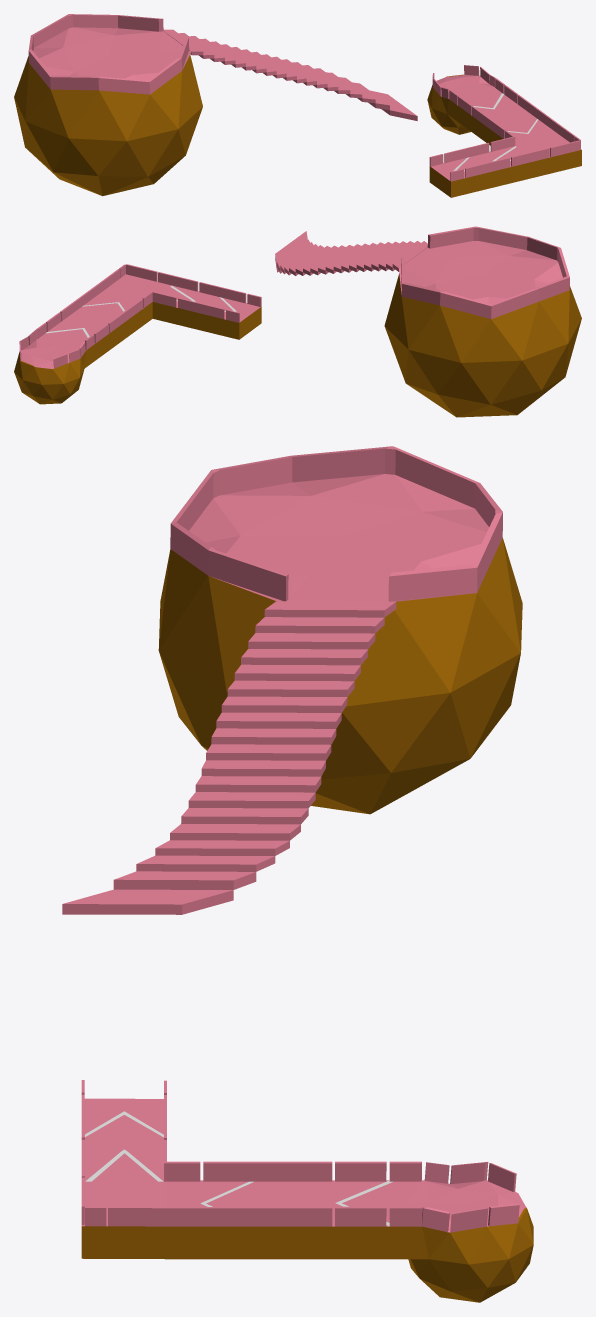
Rendered from Work_Shop_Tutorial island.fbx.
3 renders of one model, top to bottom at view 1: azimuth 30°, elevation 25°; view 2: azimuth 150°, elevation 25°; view 3: azimuth 270°, elevation 25°, orthographic. The views are drawn at different scales.
Parts seen in each view (by area): view 1: Island.001; view 2: Island.001; view 3: Island.001.
Boxes of the visible parts, x1,y1,x2,y2 form: Island.001: [14, 14, 581, 197]; Island.001: [14, 226, 581, 417]; Island.001: [62, 446, 533, 1302].
Size of the model in its own units: 84.95 by 33.57 by 34.92.
